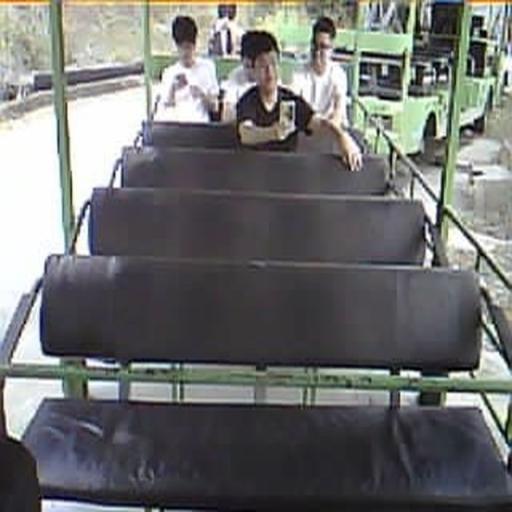persona: (233, 30, 364, 171), (155, 14, 220, 124), (290, 16, 350, 132), (221, 29, 283, 121)
